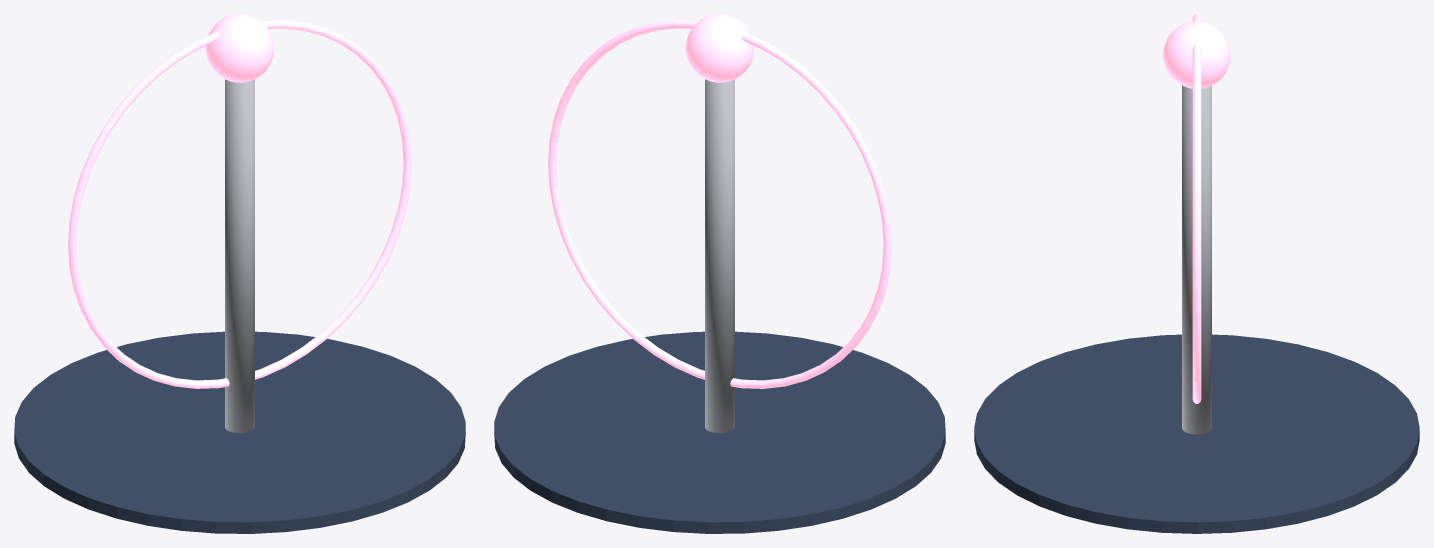
File: safety-beacon.glb
3 renders of one model, left to right at view 1: azimuth 30°, elevation 25°; view 2: azimuth 150°, elevation 25°; view 3: azimuth 270°, elevation 25°, orthographic.
Parts seen in each view (by area): view 1: Pad, Pole, Halo, Beacon; view 2: Pad, Pole, Halo, Beacon; view 3: Pad, Pole, Halo, Beacon.
Boxes of the visible parts, bbox=[...] form: Pad: bbox=[14, 331, 465, 533]; Pole: bbox=[225, 79, 254, 433]; Halo: bbox=[68, 20, 411, 388]; Beacon: bbox=[205, 14, 274, 82]; Pad: bbox=[494, 331, 945, 533]; Pole: bbox=[705, 79, 734, 433]; Halo: bbox=[548, 20, 891, 388]; Beacon: bbox=[685, 14, 754, 82]; Pad: bbox=[974, 334, 1419, 533]; Pole: bbox=[1182, 85, 1211, 434]; Halo: bbox=[1192, 14, 1201, 403]; Beacon: bbox=[1163, 21, 1230, 88].
Size of the model in its own units: 2.1 by 2.16 by 2.1.
